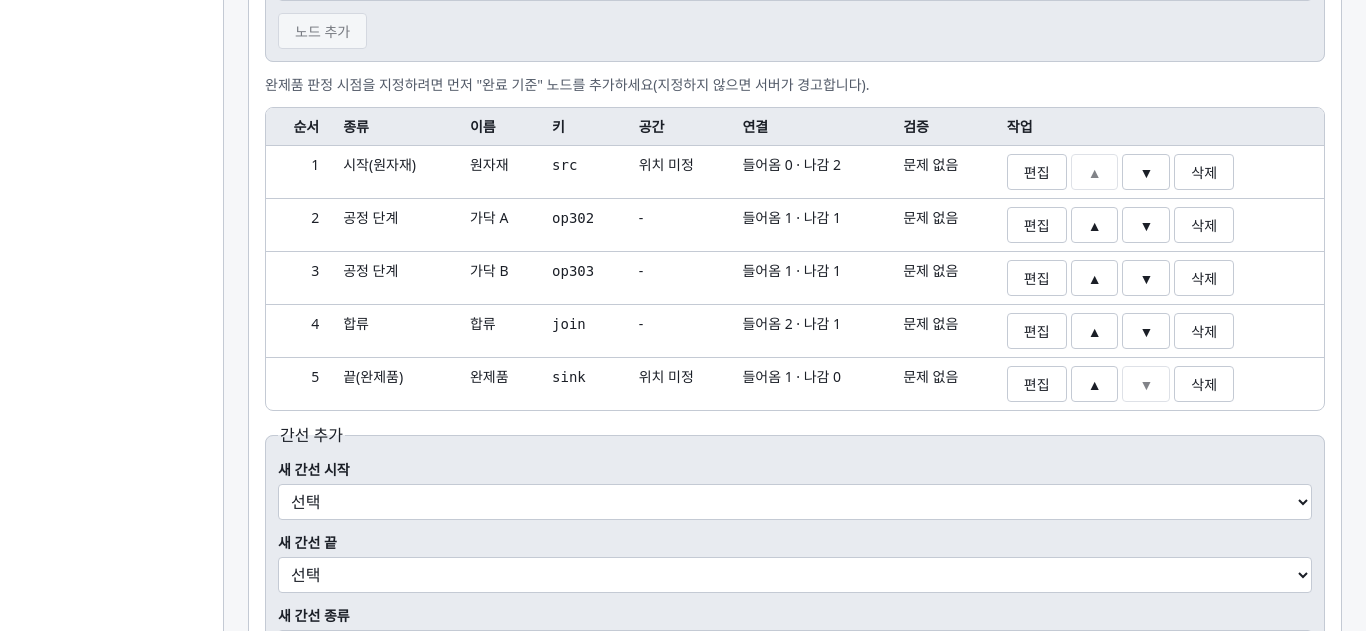
Scenario: 노드 편집 › 끝 노드에는 저장·도킹 공간만 지정할 수 있고 비우면 위치 미정이다
(page scrolled)
Expected: the table named "노드" is shown, [266, 108, 1324, 410]
Click the button with aria-label "노드 완제품 편집".
click(1037, 384)  # box [1007, 366, 1067, 402]
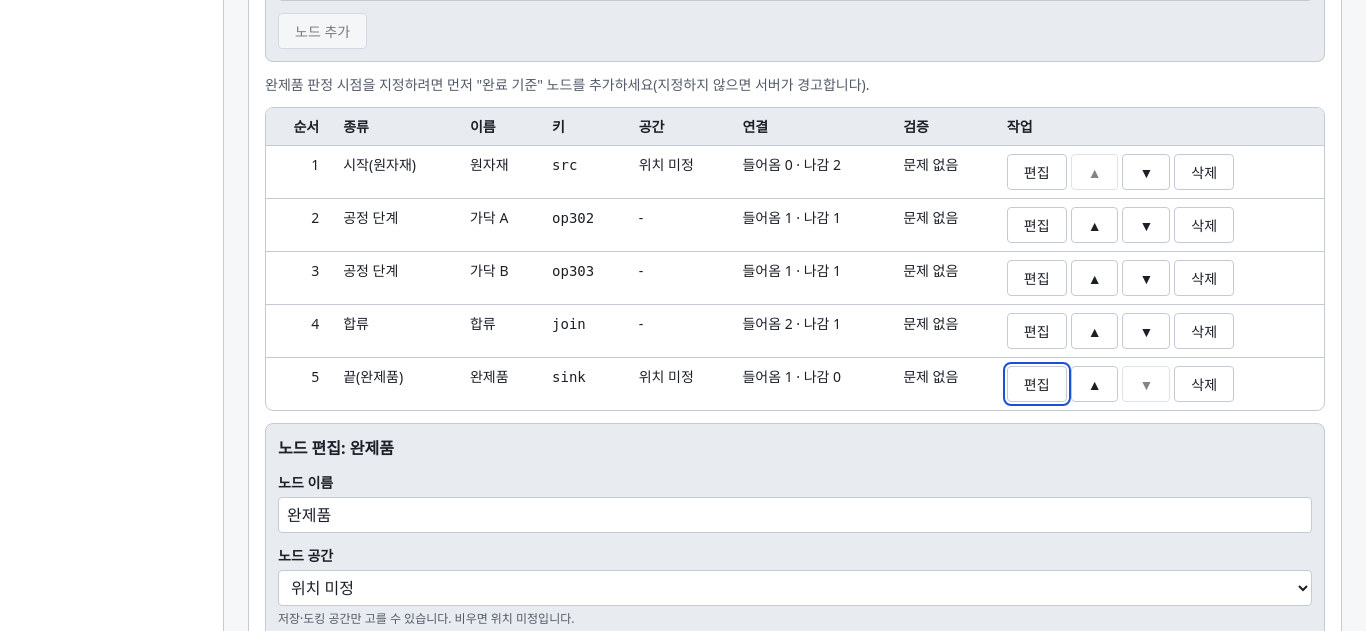
Select "ST-041 서버 공간 41" in the dropdown labelled "노드 공간" at (795, 588), box [278, 570, 1312, 606]
(page scrolled)
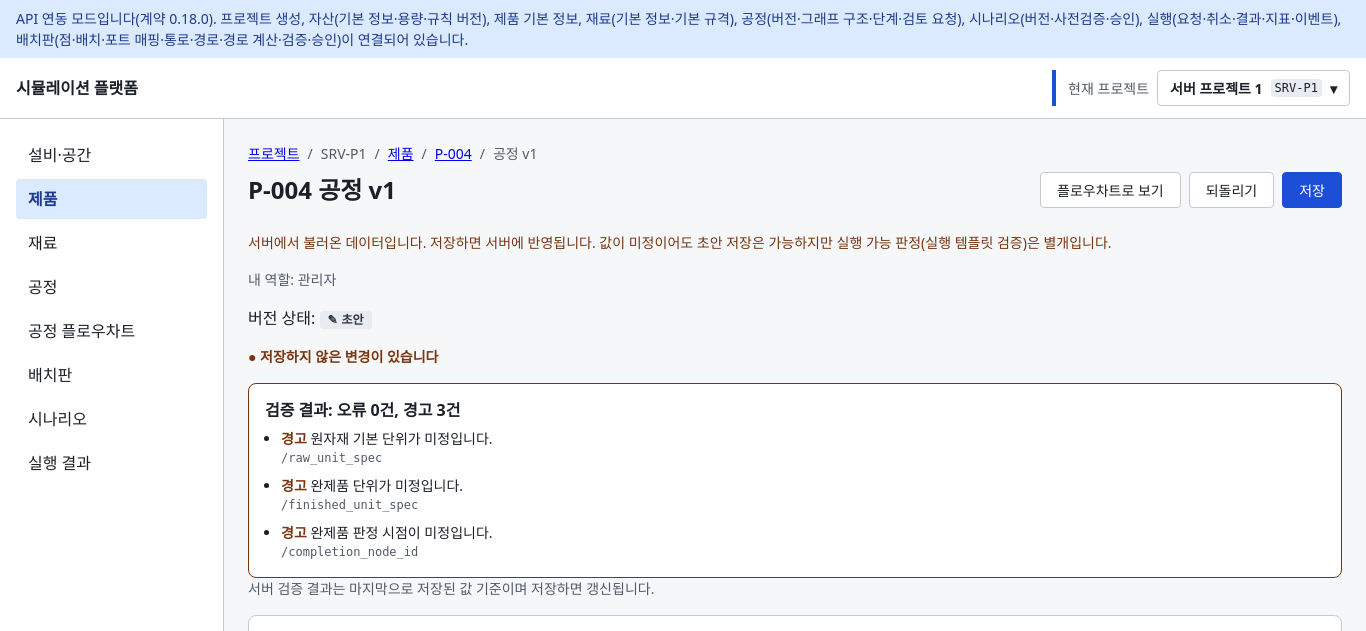
Click the button "저장".
click(1312, 190)  # box [1282, 172, 1342, 208]
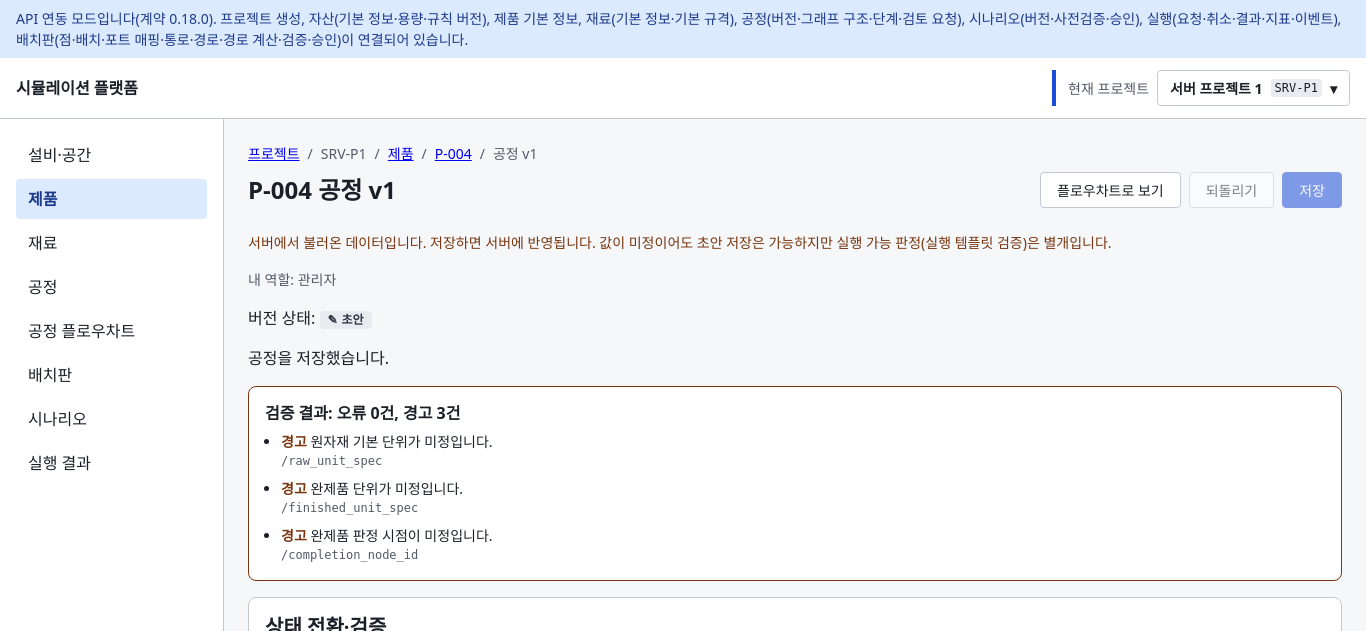
Expected: the text "공정을 저장했습니다." is shown, [248, 347, 389, 369]
